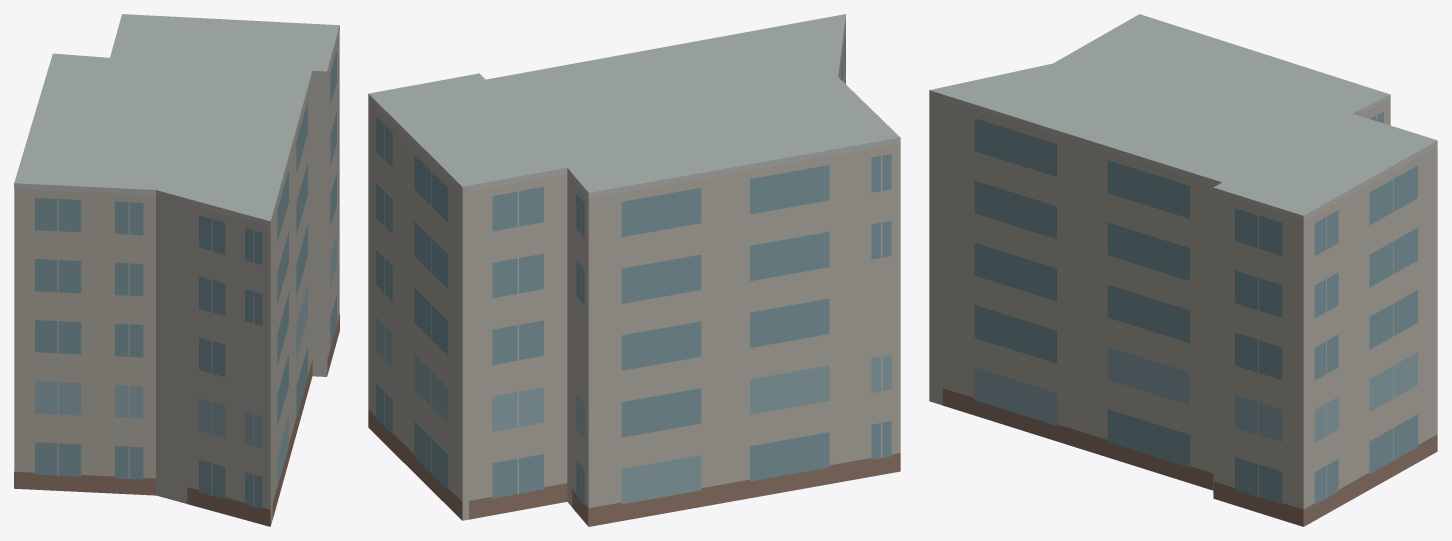
The model's file is survey-upis-32474726.glb.
The picture shows the model from 3 angles, left to right: view 1: azimuth 30°, elevation 25°; view 2: azimuth 150°, elevation 25°; view 3: azimuth 270°, elevation 25°; orthographic projection. The views are drawn at different scales.
Parts seen in each view (by area): view 1: survey-upis-32474726.tmp; view 2: survey-upis-32474726.tmp; view 3: survey-upis-32474726.tmp.
Part boxes in pixels (left/top/right/bottom): survey-upis-32474726.tmp: left=14, top=14, right=339, bottom=526; survey-upis-32474726.tmp: left=368, top=14, right=900, bottom=526; survey-upis-32474726.tmp: left=929, top=14, right=1437, bottom=526.
Size of the model in its own units: 19.56 by 14.05 by 20.82.
